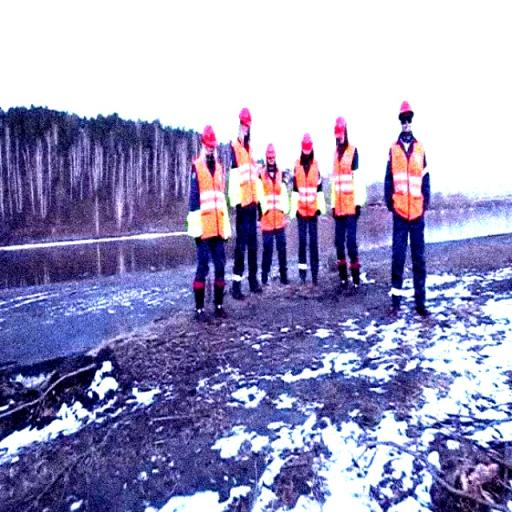Person: (382, 94, 452, 336), (209, 92, 279, 334), (321, 87, 391, 328), (170, 101, 240, 342), (290, 123, 334, 306)
boots: (410, 290, 443, 318), (276, 268, 296, 294), (297, 268, 317, 294), (228, 281, 248, 306), (245, 276, 265, 300), (256, 268, 276, 292), (387, 292, 407, 316), (336, 276, 366, 290), (189, 308, 208, 323), (211, 304, 231, 318)
gloves: (356, 202, 370, 218), (330, 206, 342, 220)
helmet: (198, 124, 220, 150), (329, 114, 350, 138), (298, 132, 316, 154), (237, 108, 259, 124), (261, 143, 284, 158), (396, 100, 418, 115)
vest: (188, 154, 230, 240), (388, 135, 430, 220), (288, 147, 330, 232), (327, 140, 368, 225), (252, 157, 293, 242), (226, 139, 266, 224)
